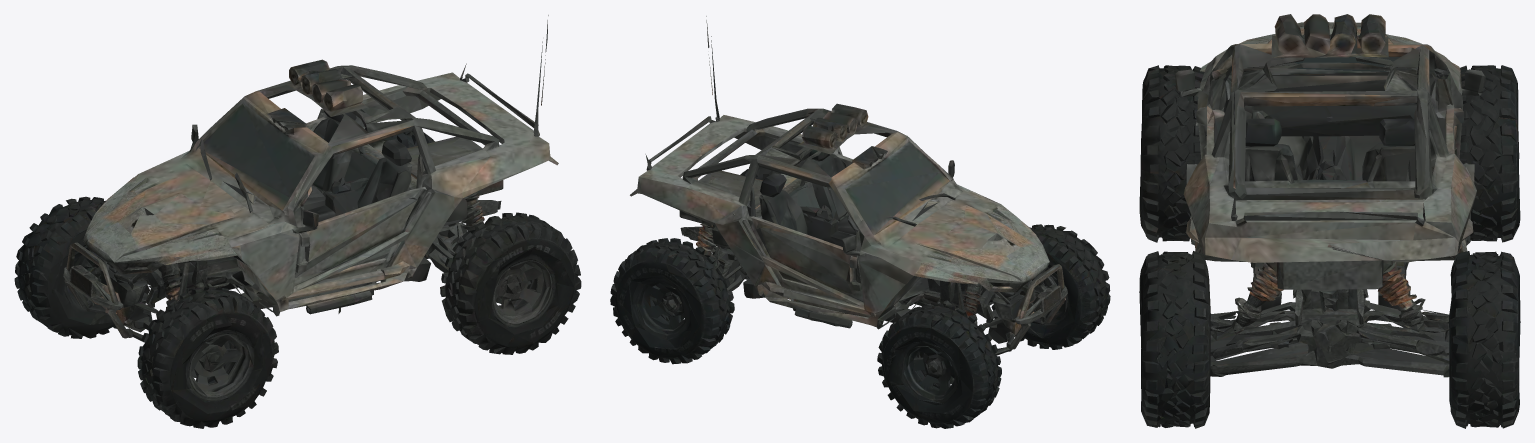
The model's file is mx_veh_buggy.glb.
The picture shows the model from 3 angles, left to right: view 1: azimuth 30°, elevation 25°; view 2: azimuth 150°, elevation 25°; view 3: azimuth 270°, elevation 25°; orthographic projection. The views are drawn at different scales.
Size of the model in its own units: 1.9 by 1.27 by 1.16.
Materials: 1 (1 with a texture image).
